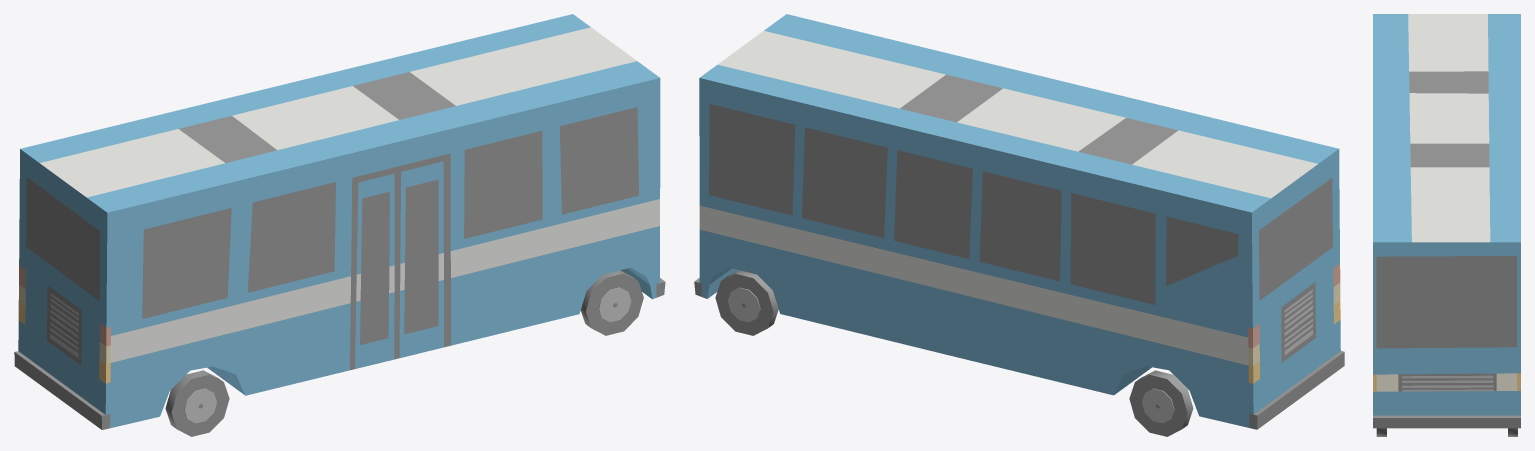
The model's file is bus.fbx.
3 views of the same model, side by side, from view 1: azimuth 30°, elevation 25°; view 2: azimuth 150°, elevation 25°; view 3: azimuth 270°, elevation 25° (orthographic). The views are drawn at different scales.
Visible parts, largest first — view 1: Extrude_2, Cylinder_9, Cylinder_6; view 2: Extrude_2, Cylinder_8, Cylinder_7; view 3: Extrude_2.
Boxes of the visible parts, x1,y1,x2,y2 form: Extrude_2: (14, 14, 665, 429); Cylinder_9: (165, 370, 229, 436); Cylinder_6: (580, 270, 643, 335); Extrude_2: (694, 14, 1344, 429); Cylinder_8: (1129, 370, 1193, 436); Cylinder_7: (715, 270, 778, 335); Extrude_2: (1373, 14, 1520, 428).
Bounding box in the file's own units: 742 × 310 × 199.
